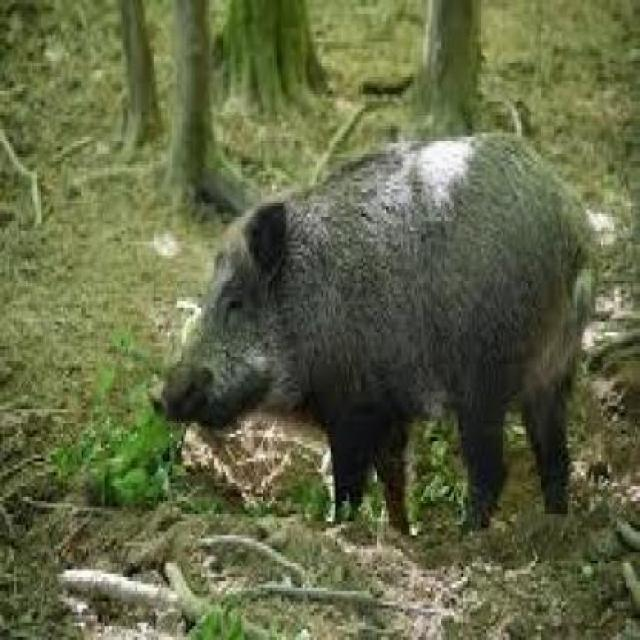wildboar: (144, 120, 610, 548)
